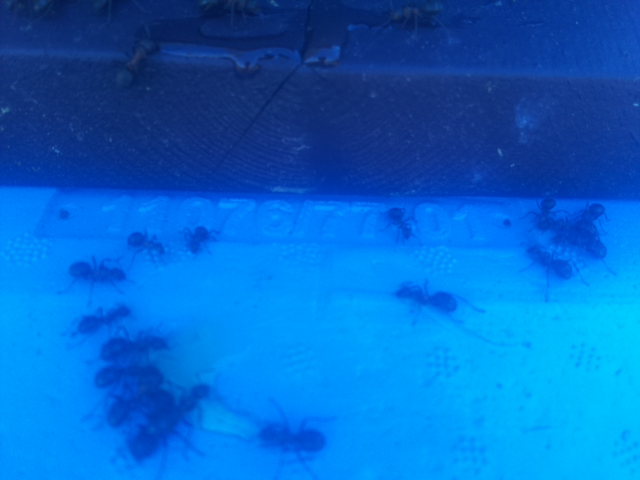ant: (106, 16, 165, 101), (529, 190, 570, 235)
